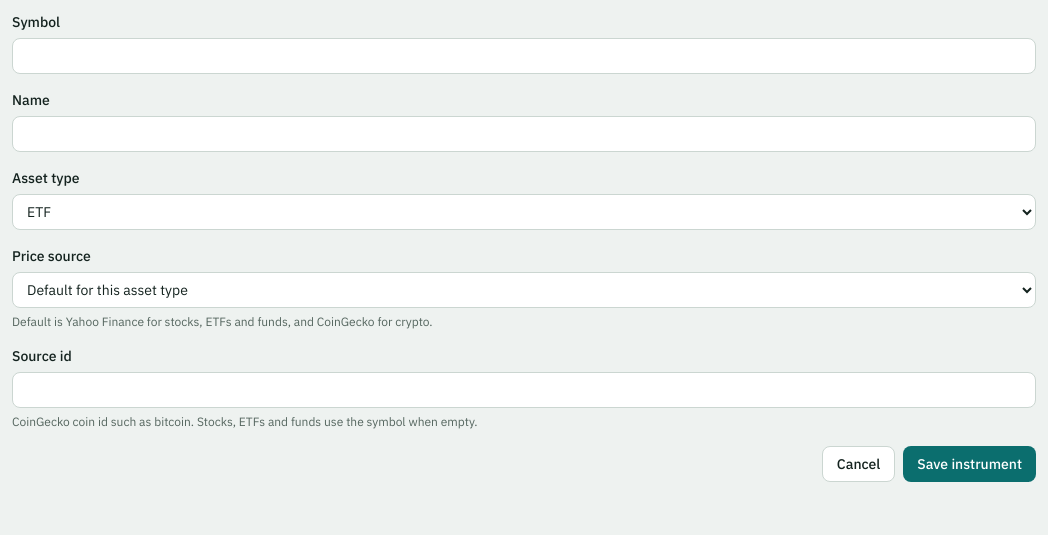
InstrumentForm › shows a duplicate instrument error inline
Type "VTI" into the field labelled "Symbol" at coordinates (524, 56), box left=12, top=38, right=1036, bottom=74
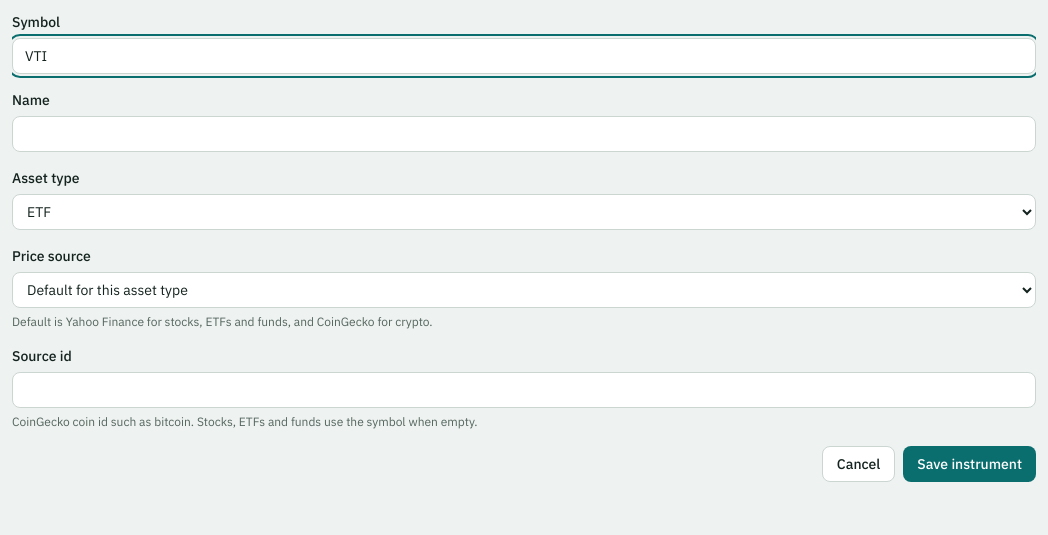
Click the button "Save instrument" at coordinates (970, 464), box left=903, top=446, right=1036, bottom=482
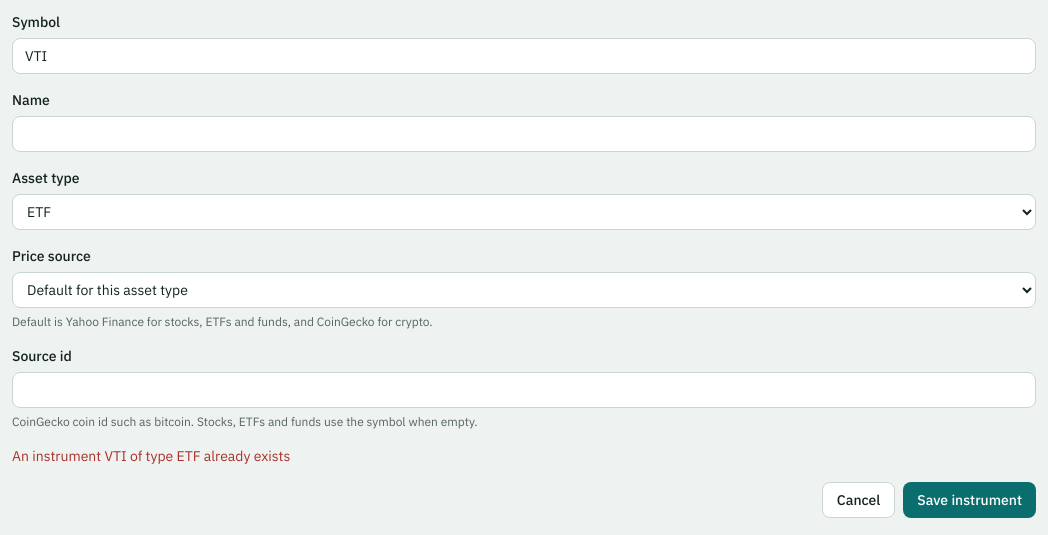
Result: the message shows "already exists" at left=12, top=447, right=290, bottom=465
